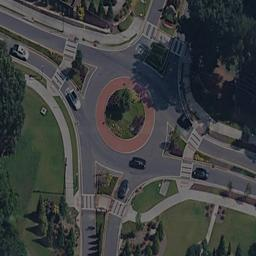Car: (113, 179, 133, 199), (67, 89, 84, 112), (12, 45, 31, 63), (178, 114, 192, 132), (130, 153, 146, 168), (193, 166, 211, 178)
Crosswalk: (141, 17, 186, 56), (63, 37, 82, 57), (188, 133, 207, 151), (111, 200, 127, 219), (81, 193, 99, 209), (54, 65, 65, 91), (181, 159, 193, 182)
